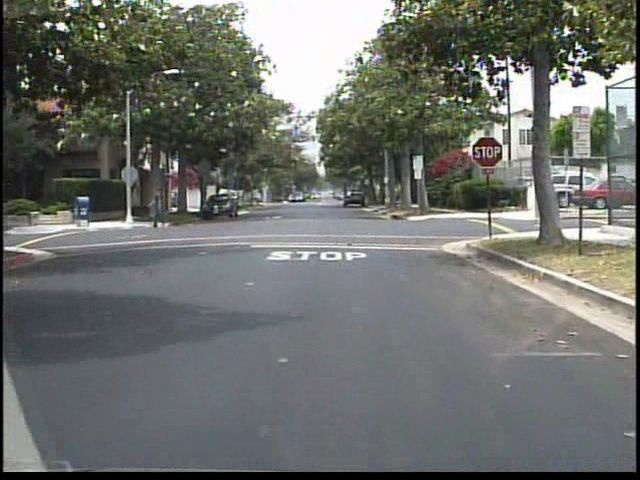person: (147, 180, 171, 232)
